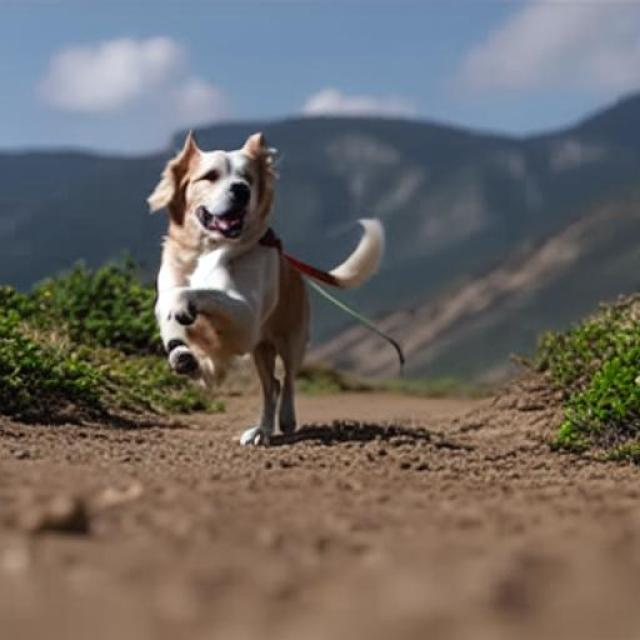Dog: (149, 130, 386, 448)
